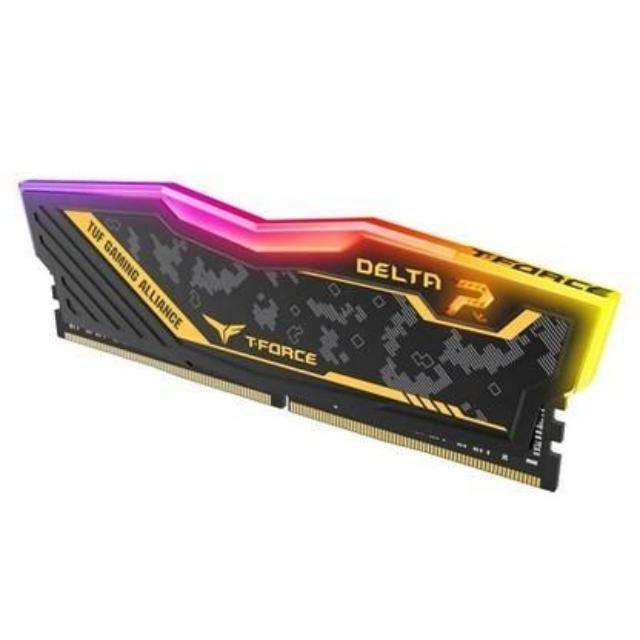RAM: (16, 165, 622, 502)
